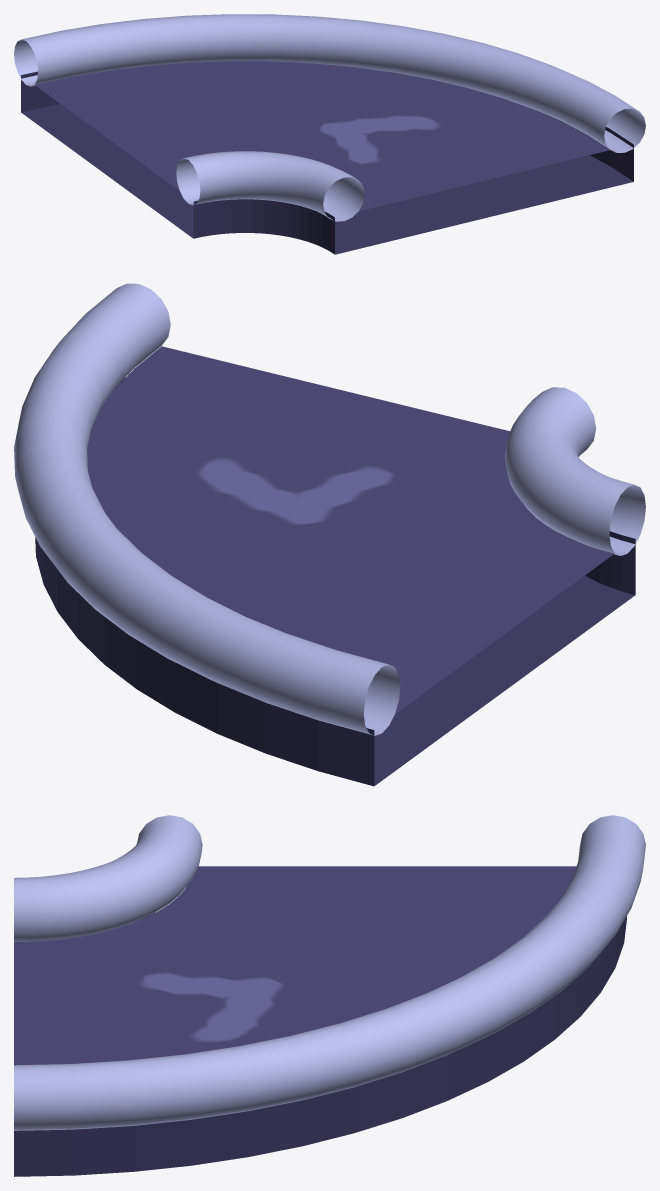
The model's file is Conveyor_Corner.glb.
3 renders of one model, top to bottom at view 1: azimuth 30°, elevation 25°; view 2: azimuth 150°, elevation 25°; view 3: azimuth 270°, elevation 25°, orthographic. The views are drawn at different scales.
Parts seen in each view (by area): view 1: Conveyor_Corner_Belt, Conveyor_Corner_RailR, Conveyor_Corner_Base, Conveyor_Corner_RailL; view 2: Conveyor_Corner_Belt, Conveyor_Corner_RailR, Conveyor_Corner_Base, Conveyor_Corner_RailL; view 3: Conveyor_Corner_Belt, Conveyor_Corner_RailR, Conveyor_Corner_Base, Conveyor_Corner_RailL.
Part boxes in pixels (x1,y1,x2,y2): Conveyor_Corner_Belt: [35, 61, 609, 211]; Conveyor_Corner_RailR: [14, 14, 645, 152]; Conveyor_Corner_Base: [21, 71, 633, 254]; Conveyor_Corner_RailL: [176, 151, 364, 221]; Conveyor_Corner_Belt: [87, 346, 613, 713]; Conveyor_Corner_RailR: [14, 283, 400, 735]; Conveyor_Corner_Base: [35, 377, 635, 786]; Conveyor_Corner_RailL: [505, 387, 645, 555]; Conveyor_Corner_Belt: [14, 866, 576, 1065]; Conveyor_Corner_RailR: [14, 815, 645, 1130]; Conveyor_Corner_Base: [14, 913, 626, 1176]; Conveyor_Corner_RailL: [14, 815, 202, 942].
Bounding box in the file's own units: 1.34 × 0.24 × 1.34.
Materials: 3 (1 with a texture image).
